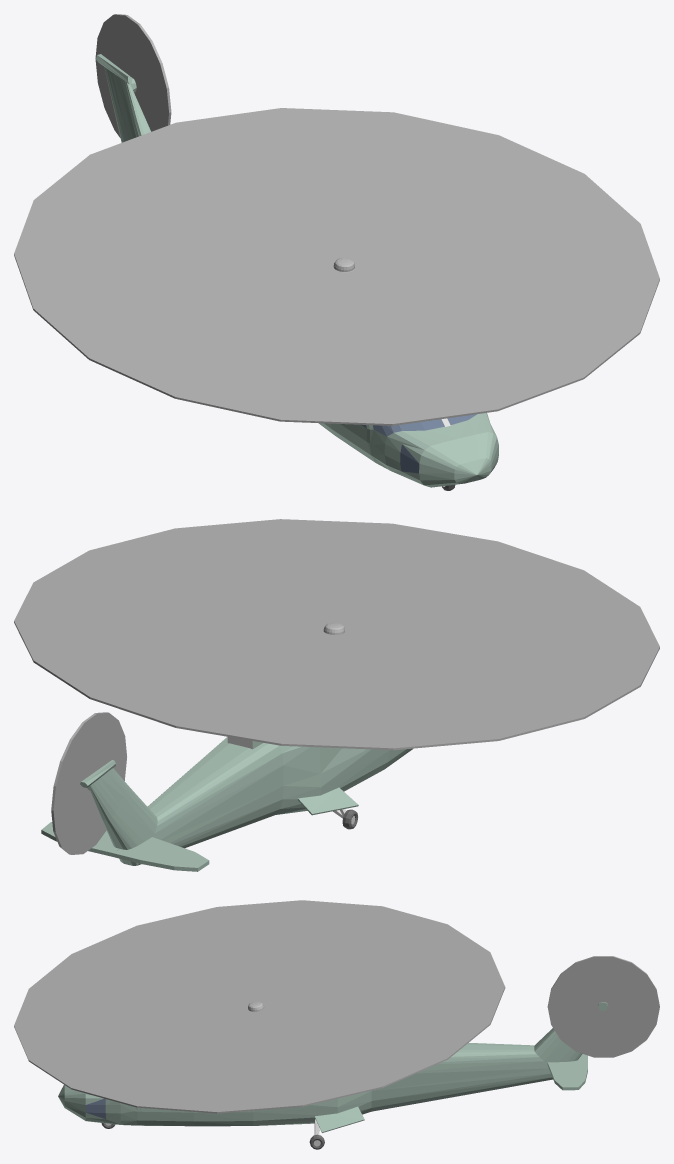
Rendered from helicopter.dae.
The picture shows the model from 3 angles, top to bottom: view 1: azimuth 30°, elevation 25°; view 2: azimuth 150°, elevation 25°; view 3: azimuth 270°, elevation 25°; orthographic projection. The views are drawn at different scales.
Visible parts, largest first — view 1: propmain, s76hull, propback, s76glass; view 2: propmain, s76hull, propback; view 3: propmain, s76hull, propback.
Part boxes in pixels (x1=…): propmain: x1=14, y1=108, x2=659, y2=425; s76hull: x1=96, y1=54, x2=498, y2=487; propback: x1=95, y1=14, x2=171, y2=137; s76glass: x1=361, y1=414, x2=476, y2=473; propmain: x1=14, y1=519, x2=659, y2=750; s76hull: x1=41, y1=737, x2=412, y2=871; propback: x1=51, y1=712, x2=126, y2=854; propmain: x1=14, y1=900, x2=505, y2=1113; s76hull: x1=58, y1=1002, x2=608, y2=1132; propback: x1=547, y1=956, x2=659, y2=1057.
Bounding box in the file's own units: 4.41 × 5.87 × 1.76.
